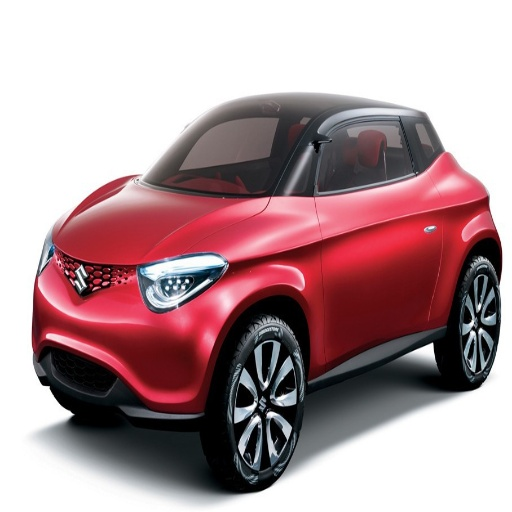back_glass: (330, 119, 388, 181)
front_bumper: (33, 250, 229, 419)
front_glass: (144, 98, 311, 195)
front_left_door: (325, 247, 414, 367)
